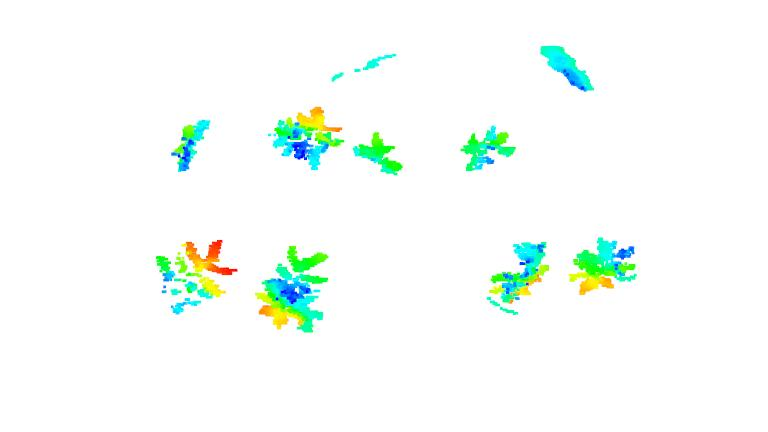chickpea: (252, 243, 332, 336), (153, 235, 240, 315), (485, 239, 553, 308), (565, 235, 641, 296), (268, 105, 340, 169), (460, 122, 518, 175), (167, 115, 213, 174), (353, 131, 404, 177)
